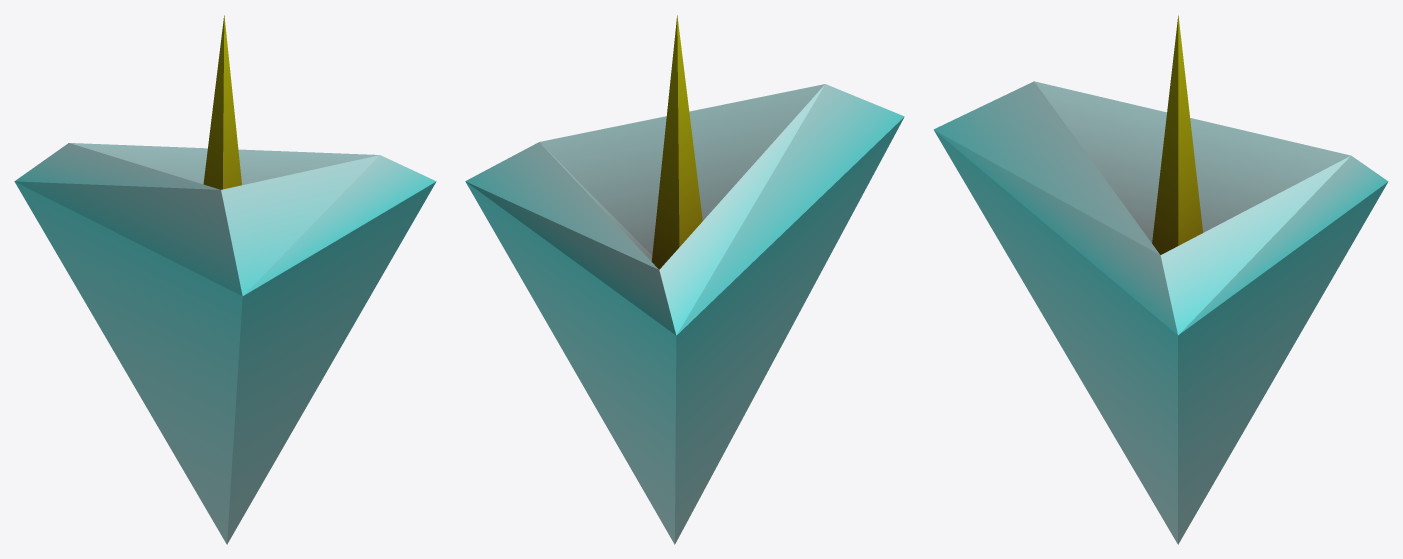
Rendered from c_flower_tulip_ab.fbx.
3 renders of one model, left to right at view 1: azimuth 30°, elevation 25°; view 2: azimuth 150°, elevation 25°; view 3: azimuth 270°, elevation 25°, orthographic.
Parts seen in each view (by area): view 1: c_flower_tulip_ab; view 2: c_flower_tulip_ab; view 3: c_flower_tulip_ab.
Part boxes in pixels (x1,y1,x2,y2): c_flower_tulip_ab: (14, 15, 436, 544); c_flower_tulip_ab: (465, 15, 904, 544); c_flower_tulip_ab: (933, 15, 1388, 544).
Size of the model in its own units: 0.2266 by 0.3635 by 0.283.
